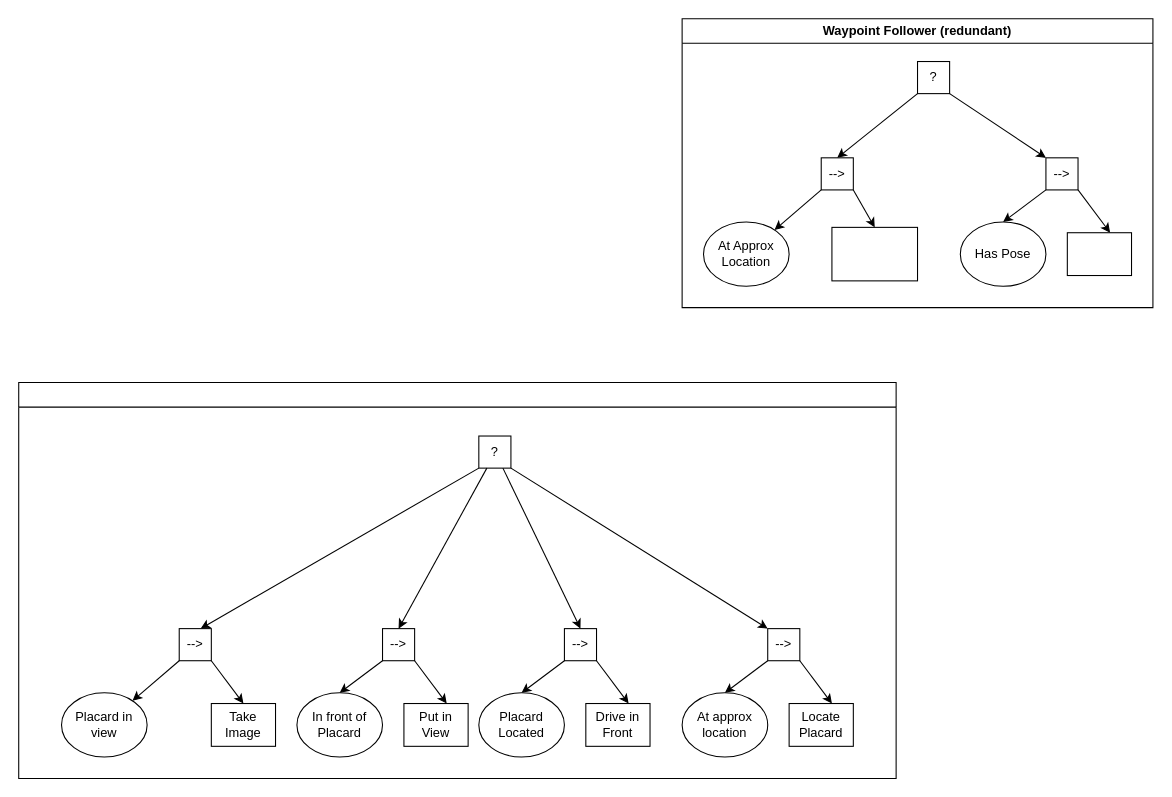
Some shapes in this 1172 by 797 pixel diagram are drawn without their labels. The shapes that lost their labels are listed below. From the top down, each one's centre as x and y in pixels, then its label:
At pixel 874 253: "Locate and Image Placard".
At pixel 1099 254: "Nav to Pose".
At pixel 457 579: "Locate and Image Landmark".
